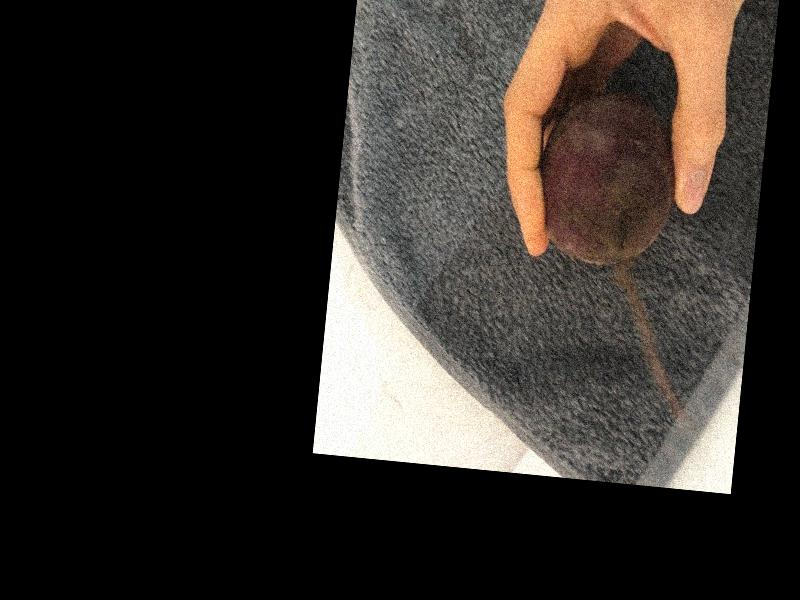Beet: (532, 85, 683, 269)
